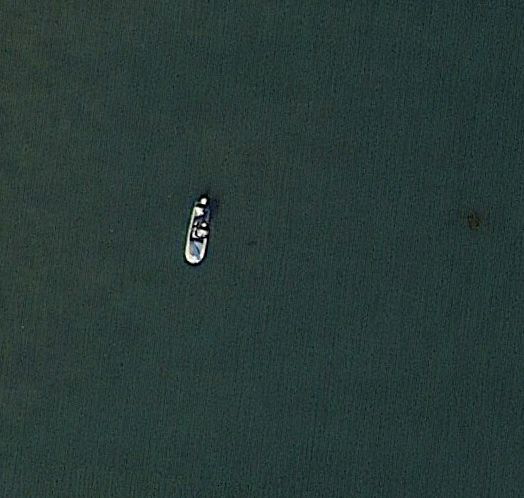boat: (183, 195, 214, 266)
